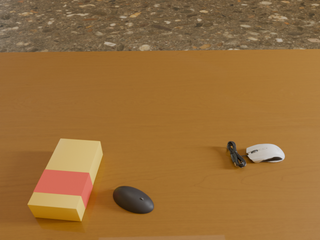box: (28, 139, 103, 221)
mouse: (113, 186, 154, 214), (245, 144, 284, 163)
